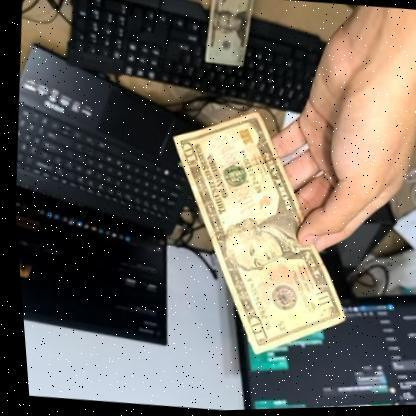ten-front: (147, 99, 364, 368)
twenty-front: (197, 0, 265, 71)
